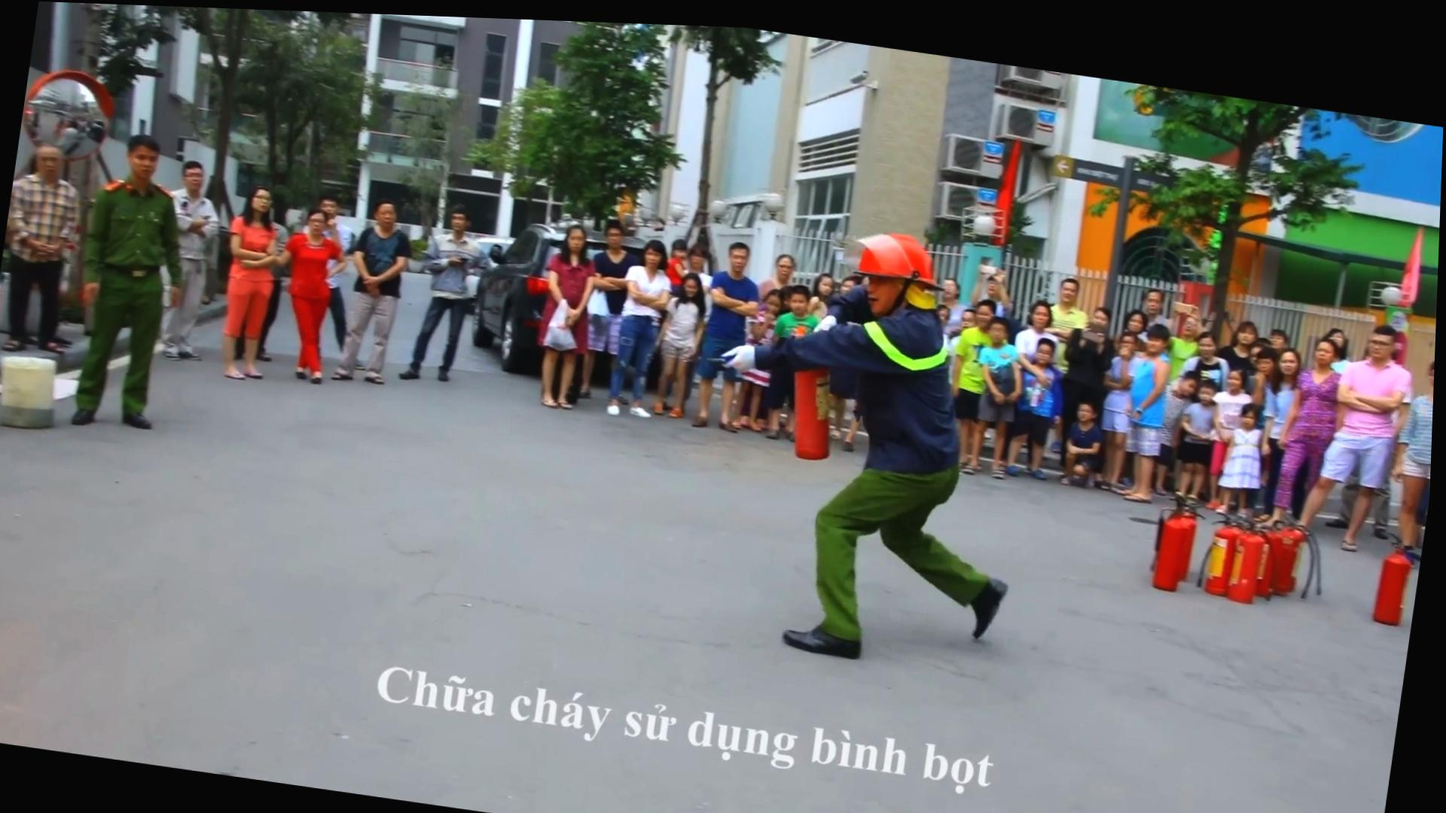FireExtinguisher: (771, 330, 853, 467), (1135, 477, 1215, 595), (1200, 493, 1279, 607), (1275, 496, 1348, 611), (1367, 516, 1428, 629)
not: (1069, 151, 1287, 295), (264, 198, 361, 398), (212, 177, 298, 369), (1272, 314, 1353, 507), (1335, 305, 1430, 445), (19, 57, 128, 156), (544, 217, 608, 358), (977, 118, 1041, 250), (103, 115, 179, 212), (1388, 203, 1441, 305), (1167, 243, 1219, 318), (1202, 398, 1251, 477), (657, 228, 707, 293)
